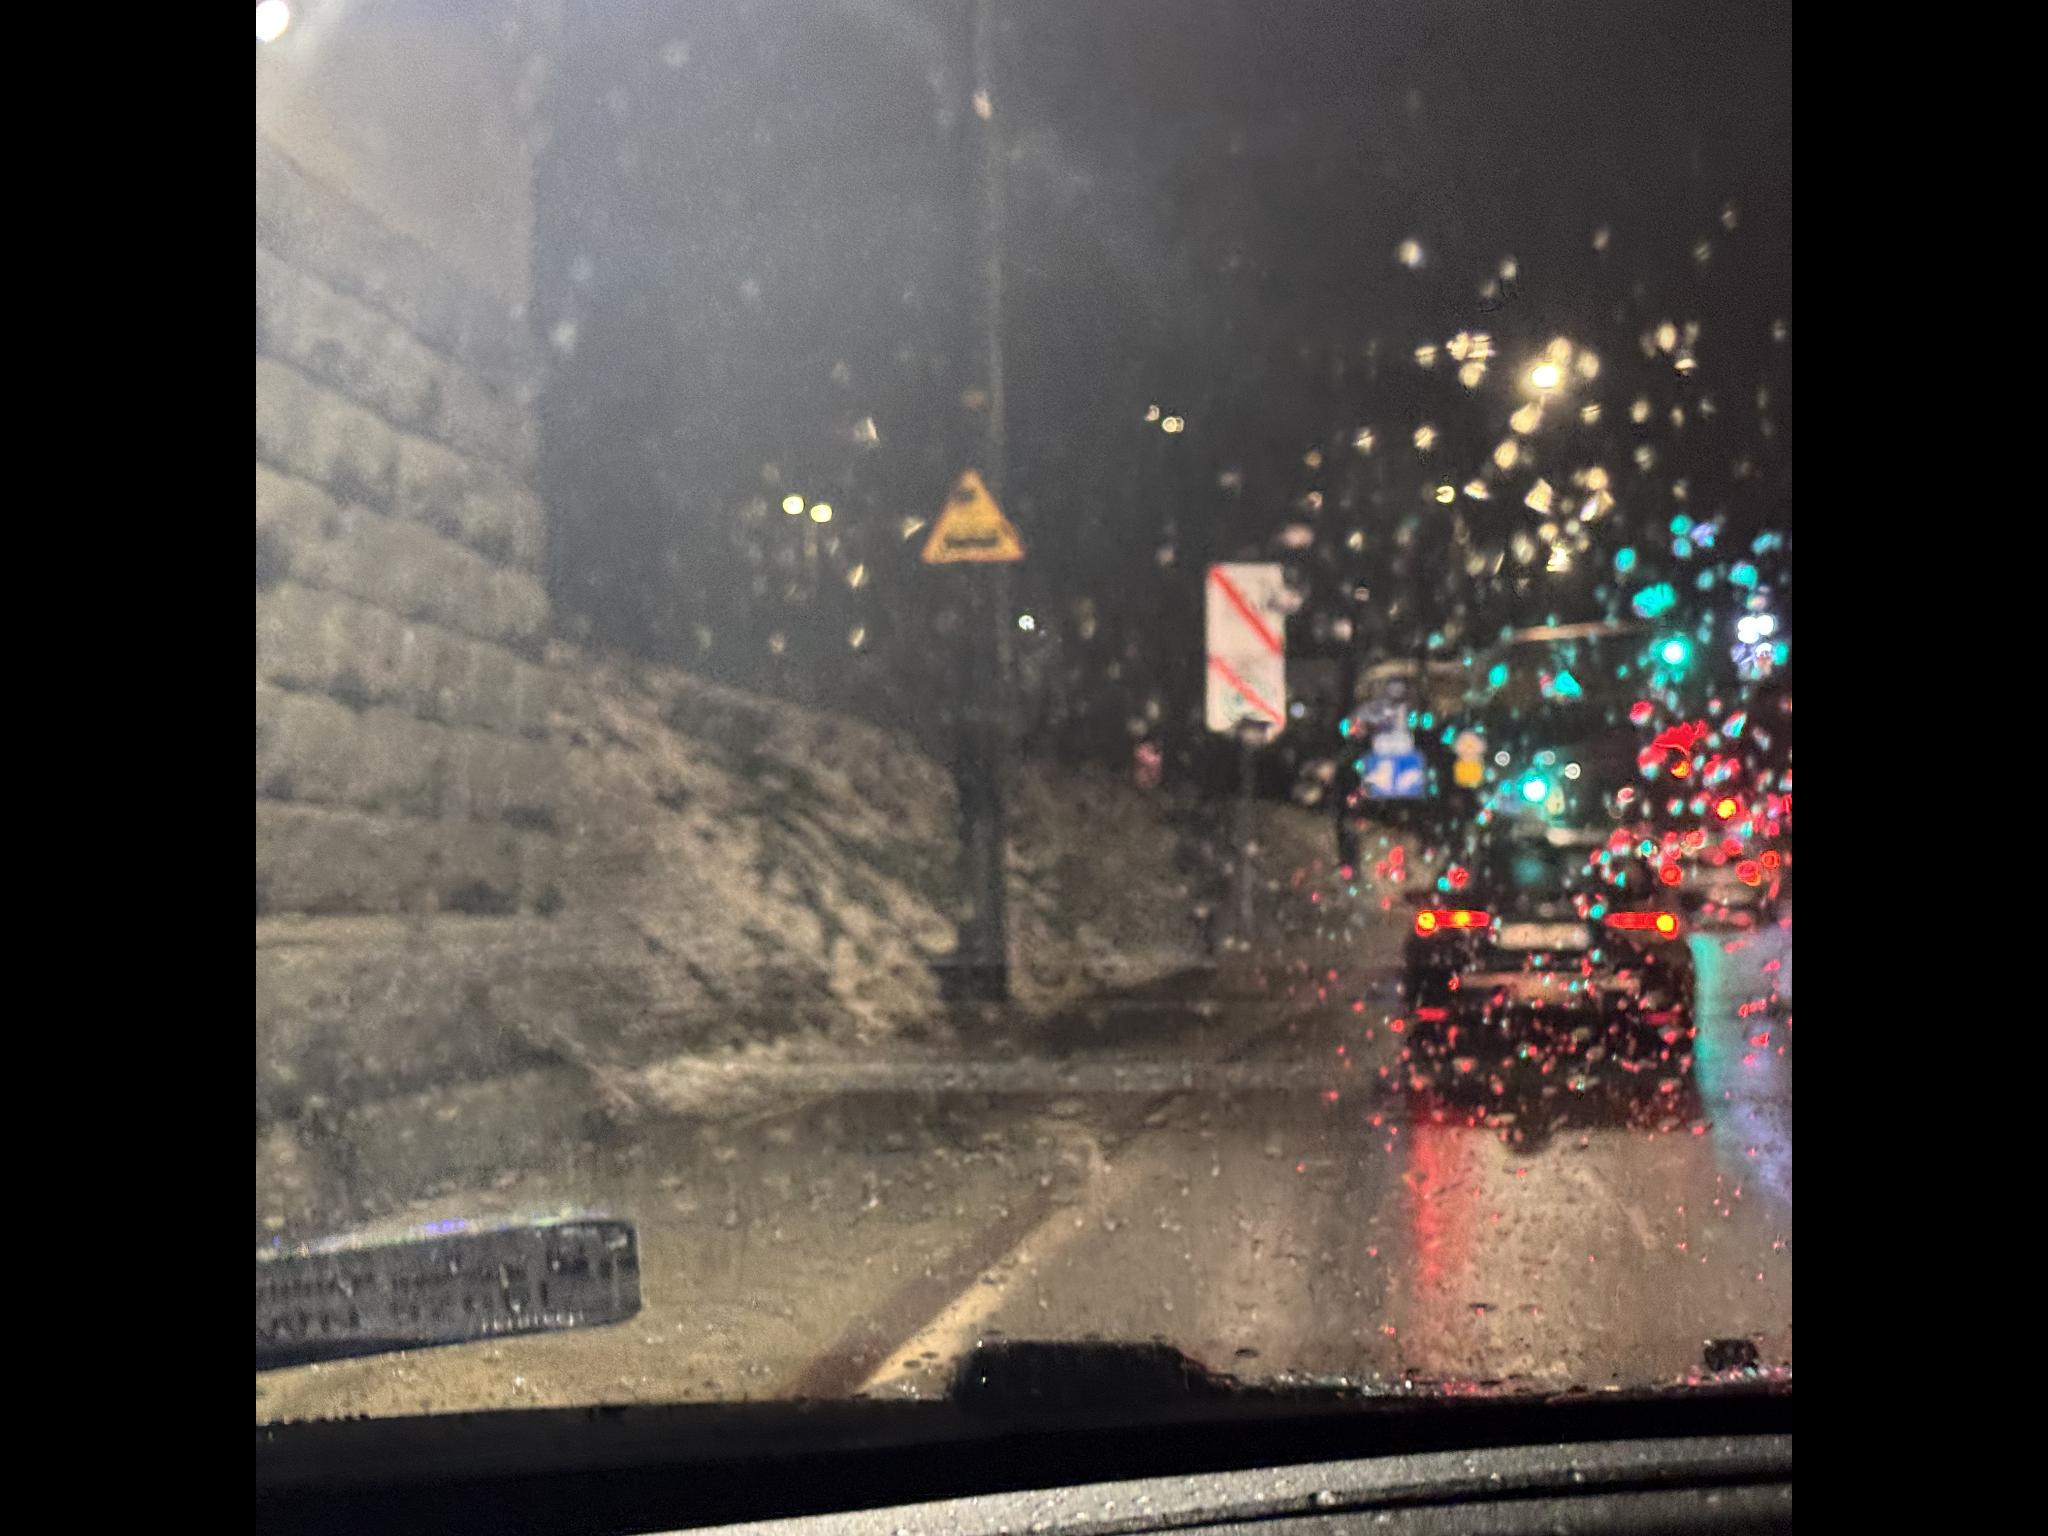warning: (979, 510, 1074, 616)
